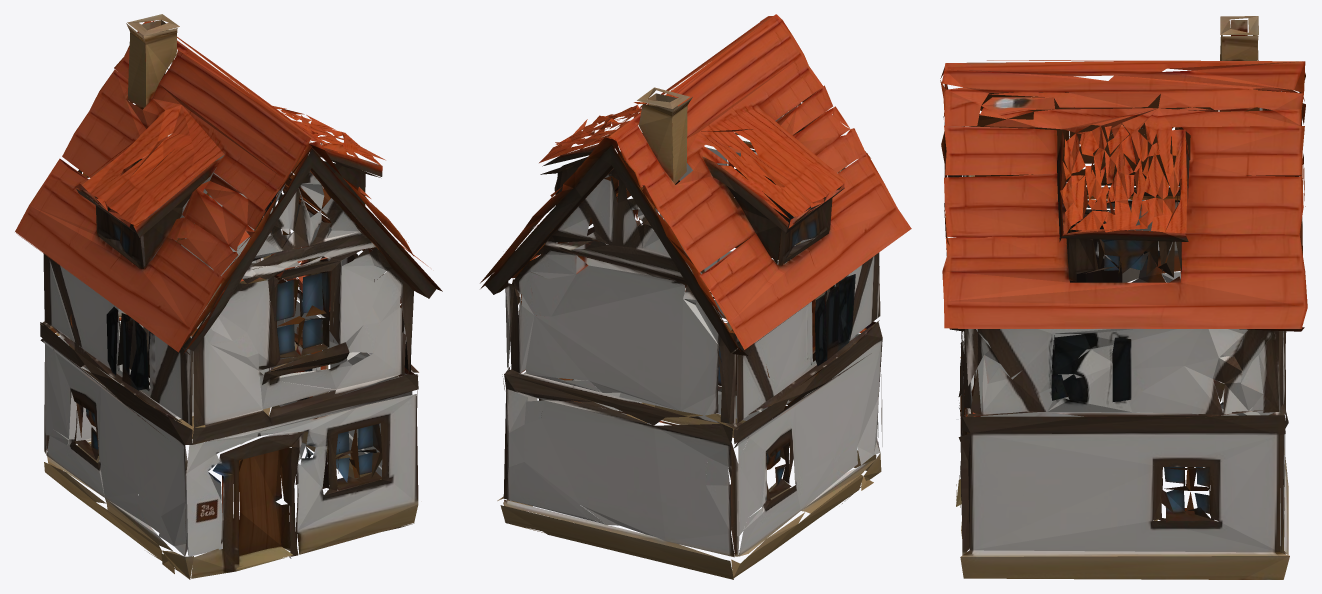
Rendered from building_plaster.glb.
3 renders of one model, left to right at view 1: azimuth 30°, elevation 25°; view 2: azimuth 150°, elevation 25°; view 3: azimuth 270°, elevation 25°, orthographic. The views are drawn at different scales.
Parts seen in each view (by area): view 1: textured_mesh.obj; view 2: textured_mesh.obj; view 3: textured_mesh.obj.
Boxes of the visible parts, left/top/right/bottom form: textured_mesh.obj: left=15, top=14, right=442, bottom=579; textured_mesh.obj: left=480, top=14, right=911, bottom=579; textured_mesh.obj: left=940, top=16, right=1307, bottom=579.
Size of the model in its own units: 1.26 by 2 by 1.37.
Materials: 1 (1 with a texture image).
